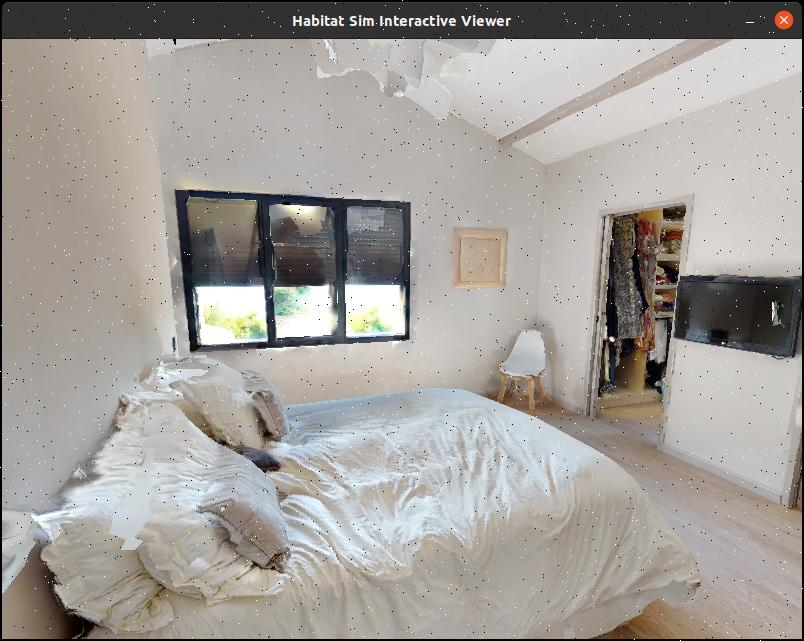bed: (0, 321, 667, 641)
chair: (479, 323, 570, 416)
